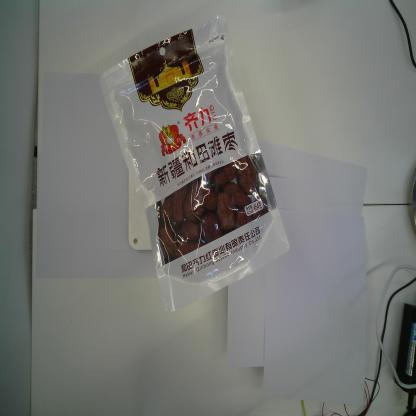Dried Food: (98, 11, 292, 317)
